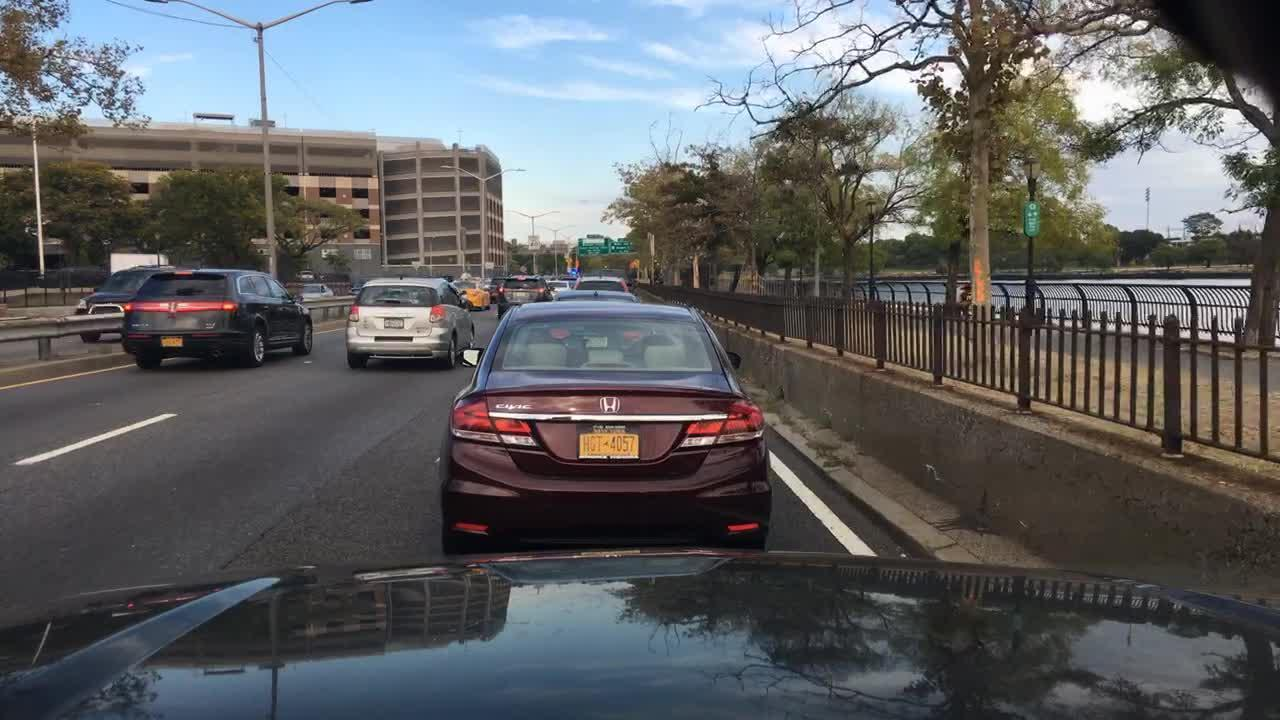Honda: (597, 392, 629, 420)
lincoln: (163, 297, 180, 319)
